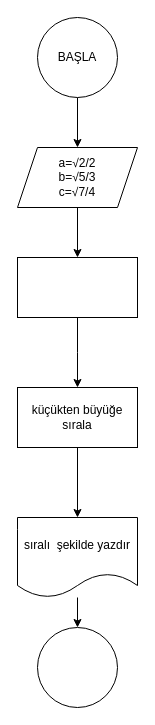
Some shapes in this 155 by 725 pixel diagram are drawn without their labels. The shapes that lost their labels are listed below. From the top down, each one's centre as x and y in pixels, then its label:
(77,287): kökten çıkart(karesini al)
(77,667): DUR
